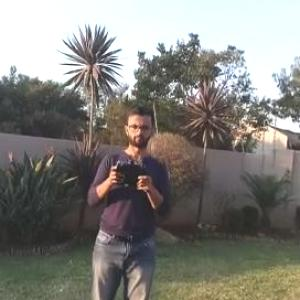follow: (79, 93, 179, 299)
